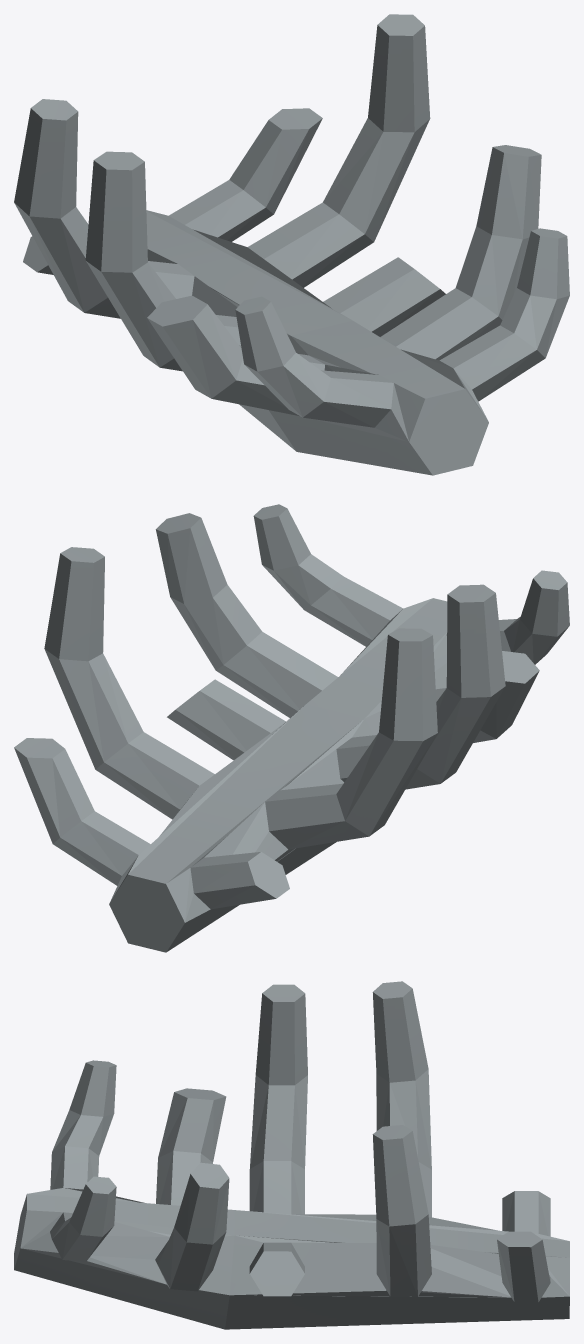
File: bones3.fbx
3 views of the same model, one above another, from view 1: azimuth 30°, elevation 25°; view 2: azimuth 150°, elevation 25°; view 3: azimuth 270°, elevation 25° (orthographic). The views are drawn at different scales.
Parts seen in each view (by area): view 1: Prop_Bones_Beast_Ribs_03; view 2: Prop_Bones_Beast_Ribs_03; view 3: Prop_Bones_Beast_Ribs_03.
Part boxes in pixels (left/top/right/bottom): Prop_Bones_Beast_Ribs_03: left=14, top=14, right=569, bottom=475; Prop_Bones_Beast_Ribs_03: left=14, top=504, right=569, bottom=952; Prop_Bones_Beast_Ribs_03: left=14, top=981, right=569, bottom=1329.
Bounding box in the file's own units: 170 × 124 × 243.
1 material, 1 textured.
